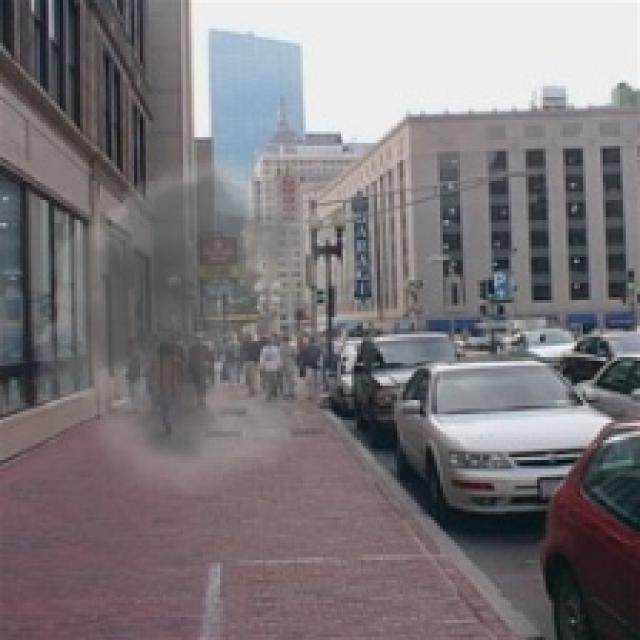smoke: (17, 140, 377, 497)
